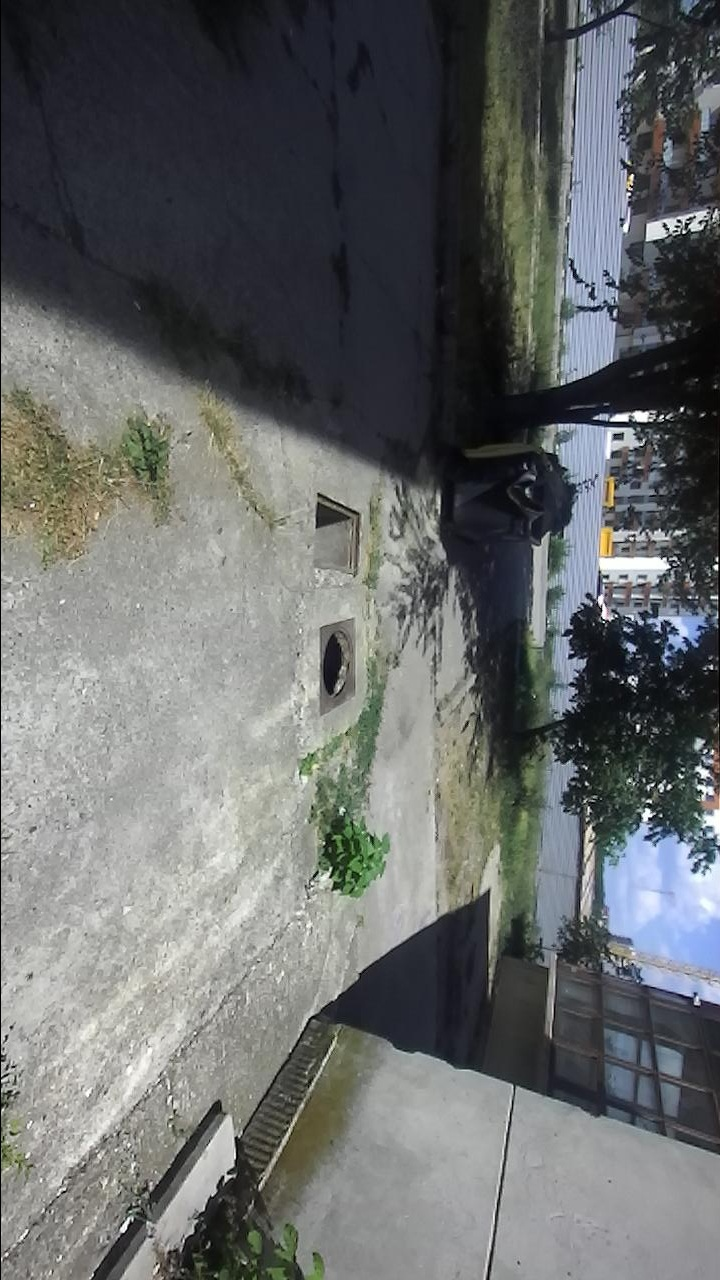drain: (315, 490, 363, 579), (322, 627, 356, 700)
